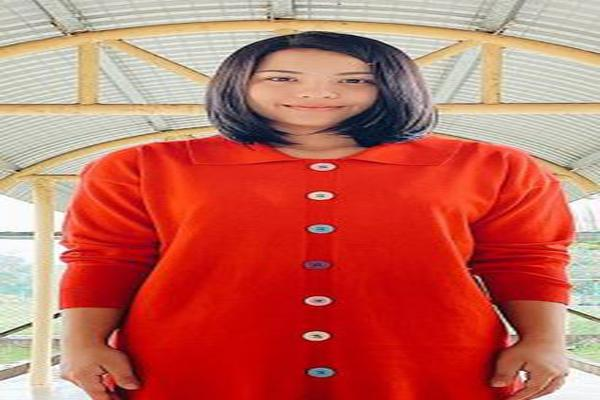Malay: (247, 52, 375, 123)
